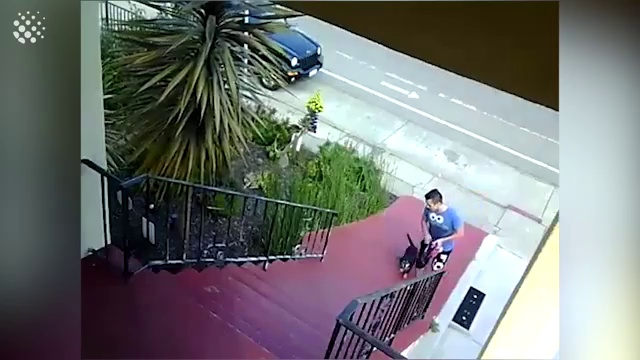face: (426, 197, 438, 211)
